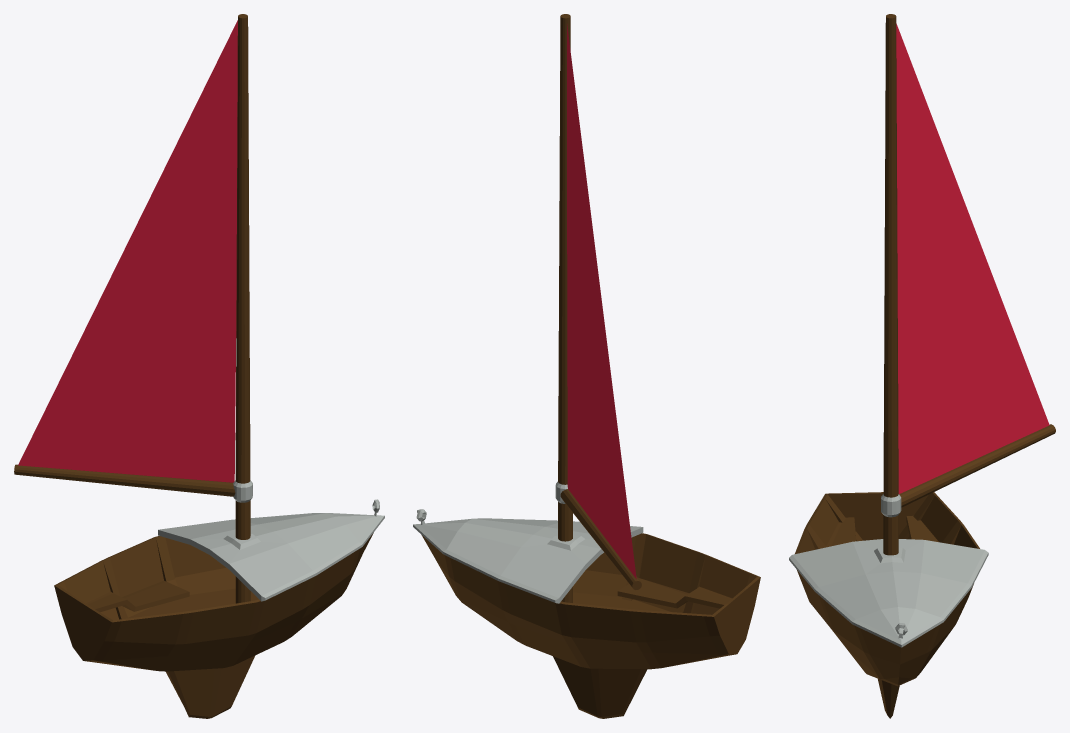
File: Boat.glb
3 renders of one model, left to right at view 1: azimuth 30°, elevation 25°; view 2: azimuth 150°, elevation 25°; view 3: azimuth 270°, elevation 25°, orthographic. The views are drawn at different scales.
Visible parts, largest first — view 1: Boat; view 2: Boat; view 3: Boat.
Boxes of the visible parts, bbox=[...] form: Boat: bbox=[14, 14, 384, 718]; Boat: bbox=[413, 14, 760, 718]; Boat: bbox=[789, 14, 1055, 718].
Size of the model in its own units: 1.41 by 2.95 by 0.9996.
